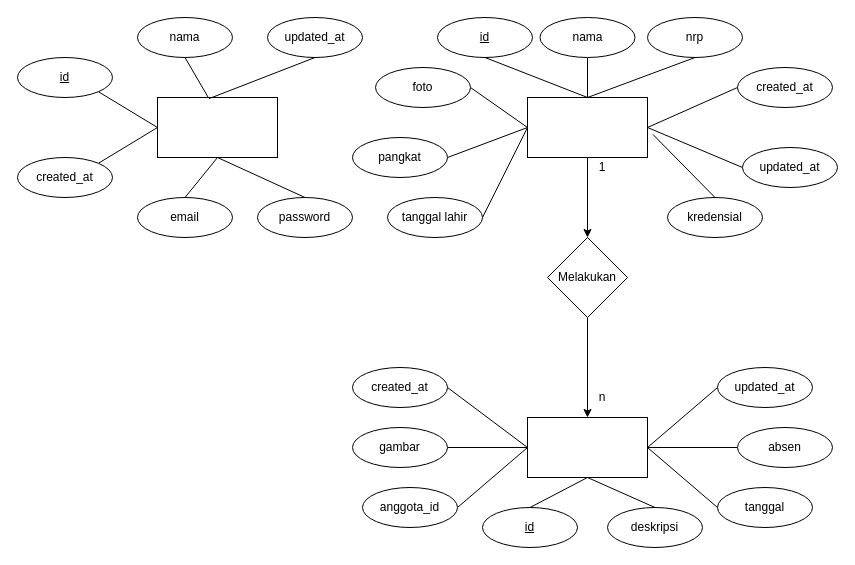
The diagram is 855 pixels wide and 565 high, and some of its shapes have lost their labels. The shapes that lost their labels are listed below. From the top down, each one's centre as x and y in pixels, then its label:
the point at 217,127: Pengguna
the point at 587,127: Anggota
the point at 587,447: Absensi
